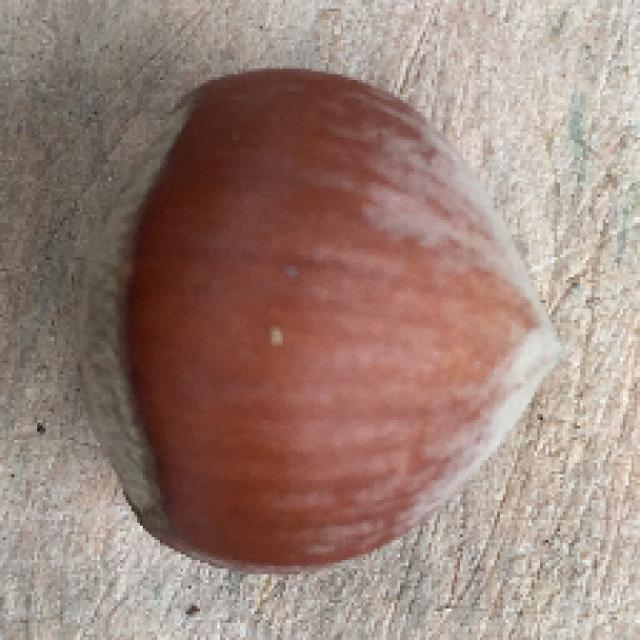qualityHazelnut: (55, 51, 567, 591)
